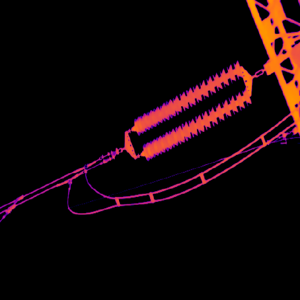insulator: (132, 59, 252, 160)
